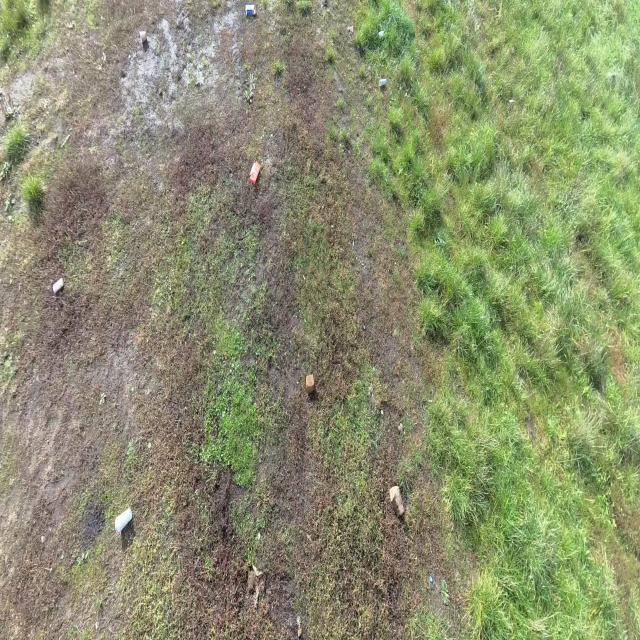rubbish: (389, 484, 404, 519), (114, 508, 132, 535), (249, 160, 262, 184), (53, 276, 64, 294), (306, 372, 315, 393), (245, 4, 256, 15), (139, 31, 148, 44), (379, 77, 387, 86), (378, 31, 384, 37), (428, 574, 432, 581)
